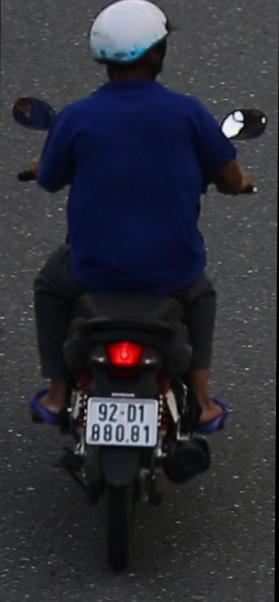LP: (83, 391, 162, 450)
helmet: (84, 0, 172, 92)
